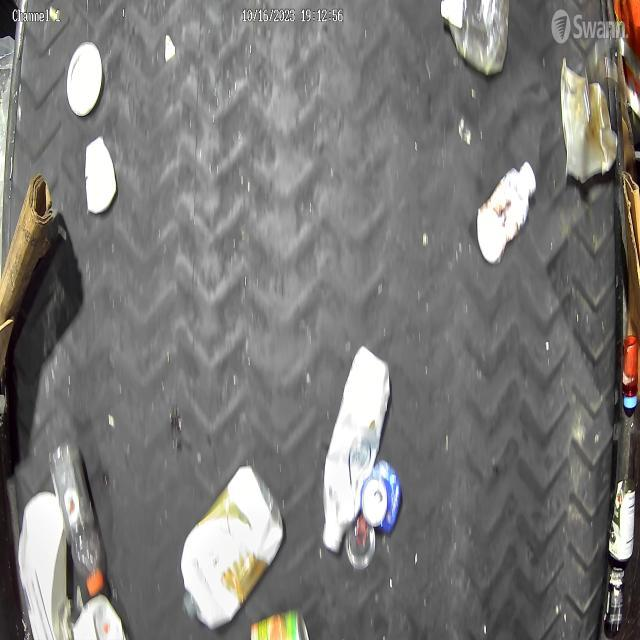can: (559, 55, 618, 186), (361, 458, 404, 536), (607, 474, 637, 564), (248, 604, 311, 640), (345, 514, 377, 570), (602, 564, 626, 634)
plastic_bottle: (48, 433, 108, 604)
